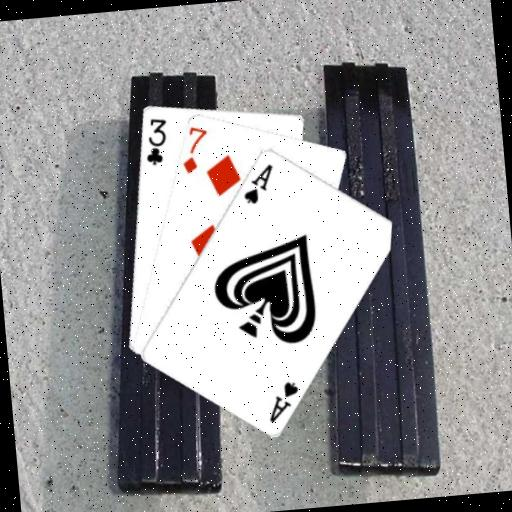3C: (139, 115, 171, 168)
7D: (176, 123, 212, 176)
AS: (263, 376, 303, 424), (237, 160, 277, 206)
